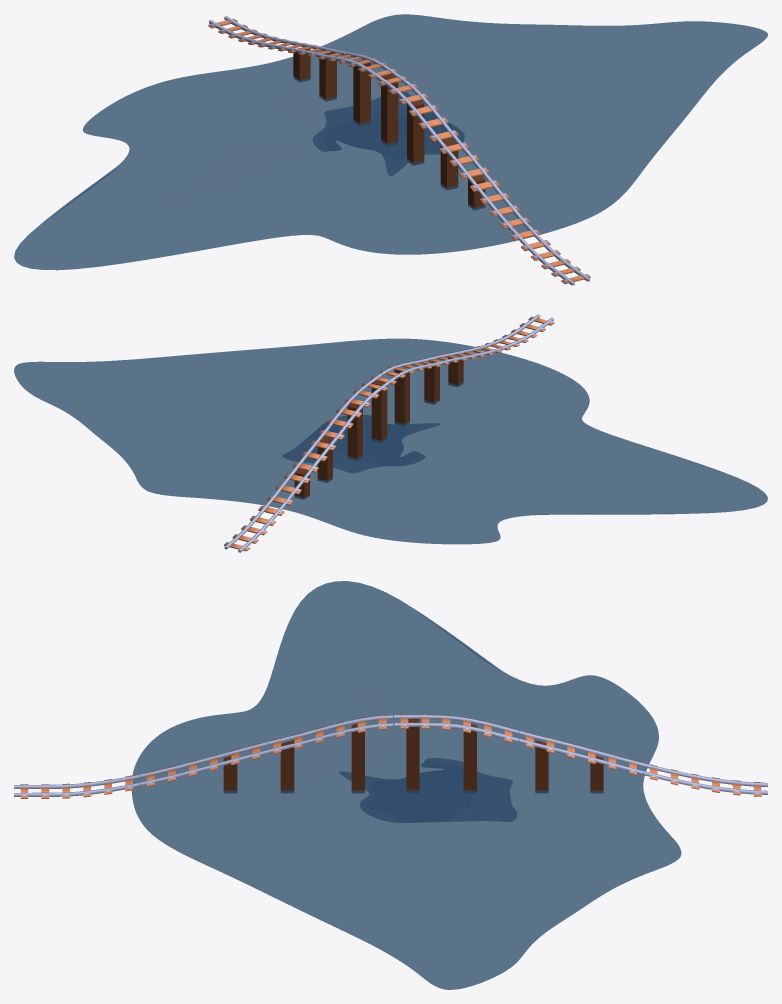
File: straight-rise2.glb
3 views of the same model, one above another, from view 1: azimuth 30°, elevation 25°; view 2: azimuth 150°, elevation 25°; view 3: azimuth 270°, elevation 25° (orthographic). The views are drawn at different scales.
Parts seen in each view (by area): view 1: Plane.002, Plane.001, railroad-straight.028, railroad-straight.027, railroad-straight.026, Cube.006, Cube.005, Cube.004, railroad-straight.025, railroad-straight.024, Cube.003, Cube.002 (+1 smaller); view 2: Plane.002, Plane.001, railroad-straight.028, railroad-straight.024, railroad-straight.025, Cube.006, railroad-straight.026, Cube.004, Cube.005, railroad-straight.027, Cube.002, Cube.003; view 3: Plane.002, Plane.001, railroad-straight.028, railroad-straight.027, railroad-straight.024, railroad-straight.025, railroad-straight.026, Cube.006, Cube.004, Cube.005, Cube.002.
Boxes of the visible parts, x1,y1,x2,y2 form: Plane.002: [14, 14, 767, 270]; Plane.001: [313, 92, 463, 175]; railroad-straight.028: [328, 52, 468, 156]; railroad-straight.027: [449, 150, 529, 231]; railroad-straight.026: [511, 225, 590, 285]; Cube.006: [381, 74, 398, 145]; Cube.005: [353, 60, 370, 125]; Cube.004: [407, 100, 424, 165]; railroad-straight.025: [208, 16, 286, 47]; railroad-straight.024: [268, 40, 346, 59]; Cube.003: [319, 52, 336, 100]; Cube.002: [440, 138, 458, 189]; Plane.002: [14, 338, 767, 544]; Plane.001: [283, 415, 439, 472]; railroad-straight.028: [327, 357, 449, 430]; railroad-straight.024: [275, 425, 344, 496]; railroad-straight.025: [224, 491, 292, 552]; Cube.006: [371, 380, 387, 442]; railroad-straight.026: [485, 314, 554, 350]; Cube.004: [394, 368, 409, 425]; Cube.005: [347, 399, 362, 459]; railroad-straight.027: [432, 344, 501, 362]; Cube.002: [424, 361, 439, 404]; Cube.003: [317, 437, 332, 482]; Plane.002: [131, 581, 681, 989]; Plane.001: [339, 758, 516, 822]; railroad-straight.028: [267, 714, 518, 754]; railroad-straight.027: [140, 742, 266, 786]; railroad-straight.024: [519, 730, 643, 775]; railroad-straight.025: [643, 763, 767, 796]; railroad-straight.026: [14, 774, 139, 798]; Cube.006: [406, 718, 419, 791]; Cube.004: [351, 723, 364, 792]; Cube.005: [463, 723, 476, 791]; Cube.002: [280, 740, 294, 792].
Size of the model in its own units: 30.89 by 2.53 by 24.08.
Materials: 4 (1 with a texture image).
